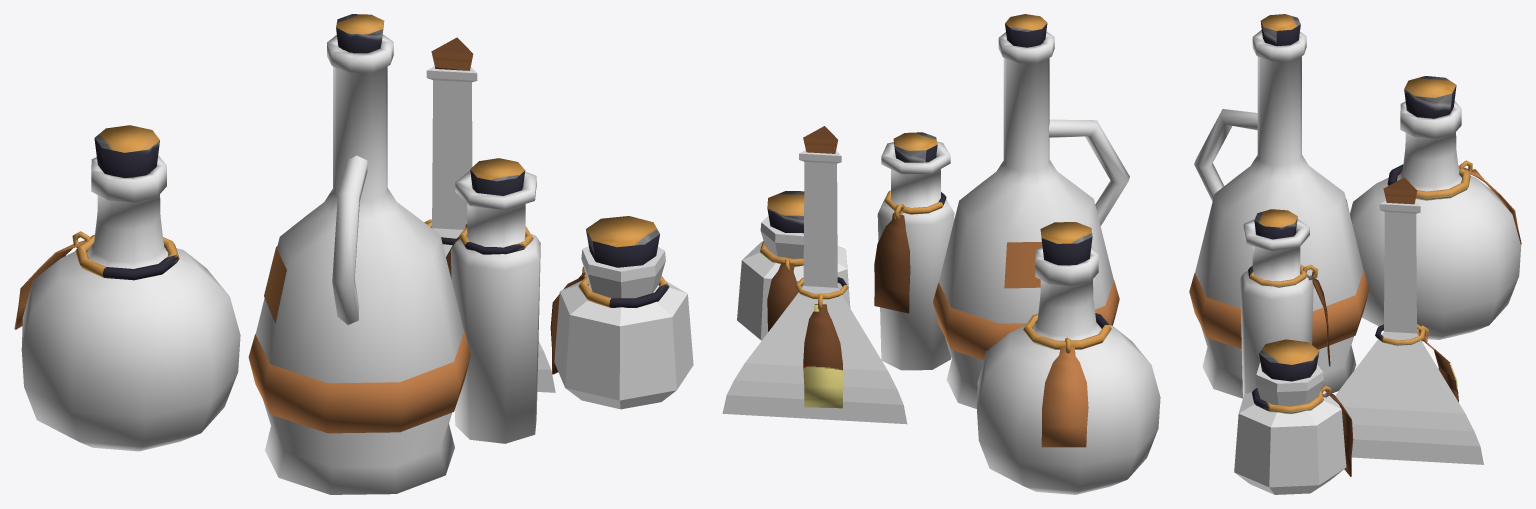
Rendered from combination9LP.fbx.
3 views of the same model, side by side, from view 1: azimuth 30°, elevation 25°; view 2: azimuth 150°, elevation 25°; view 3: azimuth 270°, elevation 25° (orthographic). The views are drawn at different scales.
Parts seen in each view (by area): view 1: glassC9, potionC9; view 2: glassC9, potionC9; view 3: glassC9, potionC9.
Boxes of the visible parts, bbox=[...] form: glassC9: bbox=[21, 34, 693, 494]; potionC9: bbox=[14, 14, 669, 433]; glassC9: bbox=[722, 31, 1160, 494]; potionC9: bbox=[760, 14, 1119, 447]; glassC9: bbox=[1194, 30, 1521, 494]; potionC9: bbox=[1189, 14, 1521, 476].
Size of the model in its own units: 168 by 124 by 106.
